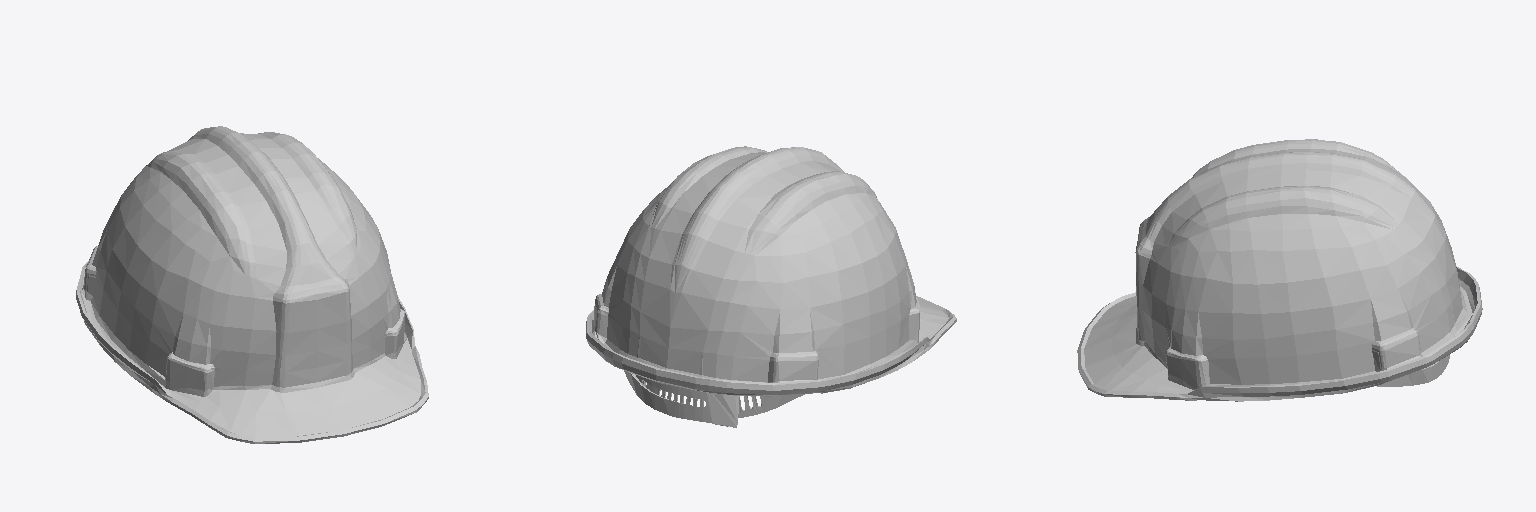
The model's file is 安全帽.obj.
3 renders of one model, left to right at view 1: azimuth 30°, elevation 25°; view 2: azimuth 150°, elevation 25°; view 3: azimuth 270°, elevation 25°, orthographic.
Visible parts, largest first — view 1: E003PLVE; view 2: E003PLVE; view 3: E003PLVE.
Boxes of the visible parts, x1=… form: E003PLVE: x1=76, y1=126, x2=428, y2=443; E003PLVE: x1=586, y1=146, x2=956, y2=427; E003PLVE: x1=1077, y1=139, x2=1482, y2=401.
Bounding box in the file's own units: 31475 × 22602 × 40112.